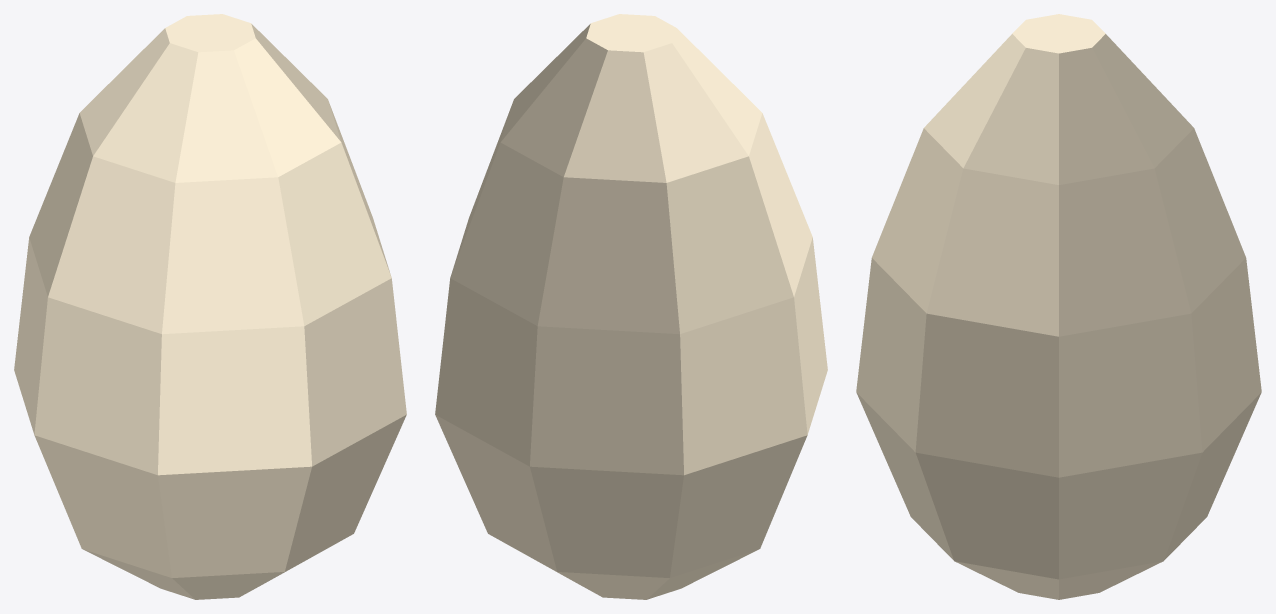
File: 06-egg.glb
3 views of the same model, side by side, from view 1: azimuth 30°, elevation 25°; view 2: azimuth 150°, elevation 25°; view 3: azimuth 270°, elevation 25° (orthographic).
Parts seen in each view (by area): view 1: 06-egg__Eggshell; view 2: 06-egg__Eggshell; view 3: 06-egg__Eggshell.
Boxes of the visible parts, x1,y1,x2,y2 form: 06-egg__Eggshell: [14, 14, 406, 599]; 06-egg__Eggshell: [435, 14, 827, 599]; 06-egg__Eggshell: [856, 14, 1261, 599].
Bounding box in the file's own units: 0.156 × 0.23 × 0.156.
